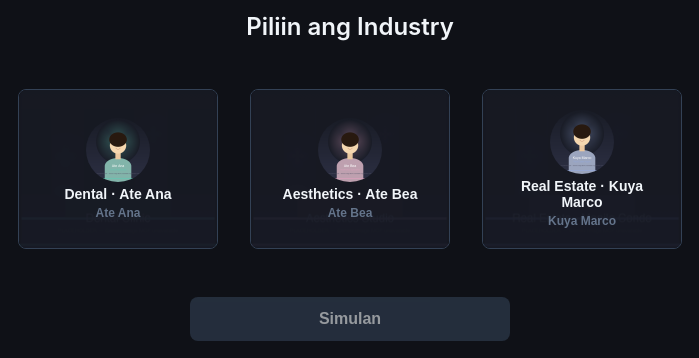
Test: IndustrySelector › clicking a card enables the Simulan button
The image size is (699, 358).
Click the button "Dental · Ate Ana Ate Ana". click: (118, 169)
box: 18,89 -> 218,249
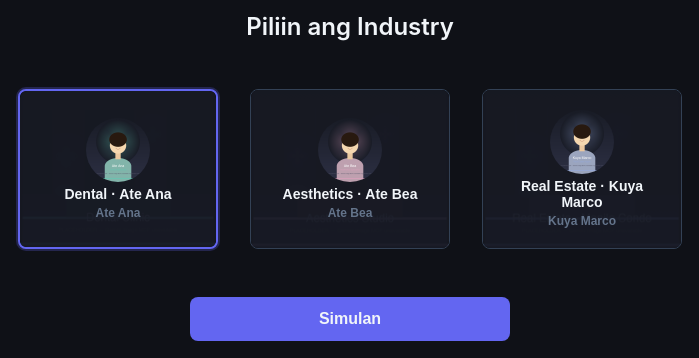
Now the button "Simulan" is enabled, box 190,297 -> 510,341
